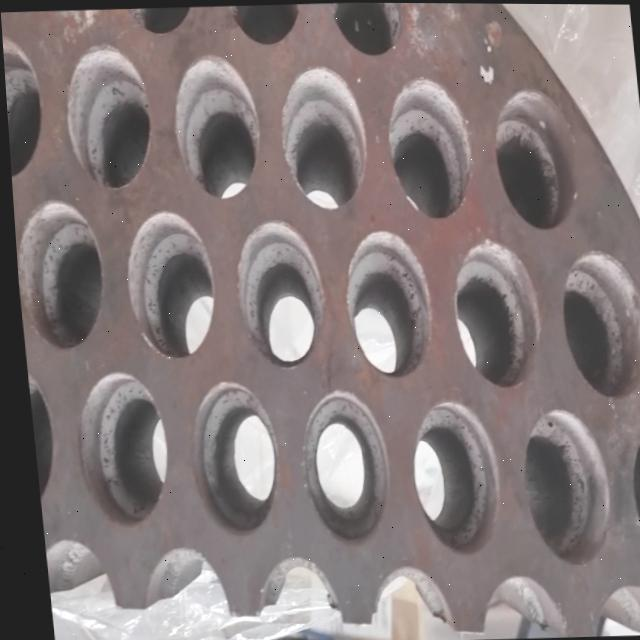Hole: (65, 368, 167, 527), (400, 396, 499, 556), (289, 387, 388, 547), (512, 404, 609, 566), (180, 378, 278, 537), (115, 207, 215, 362), (226, 216, 325, 369), (334, 227, 433, 380), (443, 235, 540, 391), (57, 41, 154, 193), (272, 62, 370, 212), (165, 52, 263, 200), (10, 197, 104, 351), (379, 73, 475, 221), (486, 85, 578, 233), (552, 246, 640, 400), (2, 30, 46, 179), (20, 359, 55, 516), (326, 2, 406, 60), (223, 2, 304, 48), (618, 416, 640, 576)
